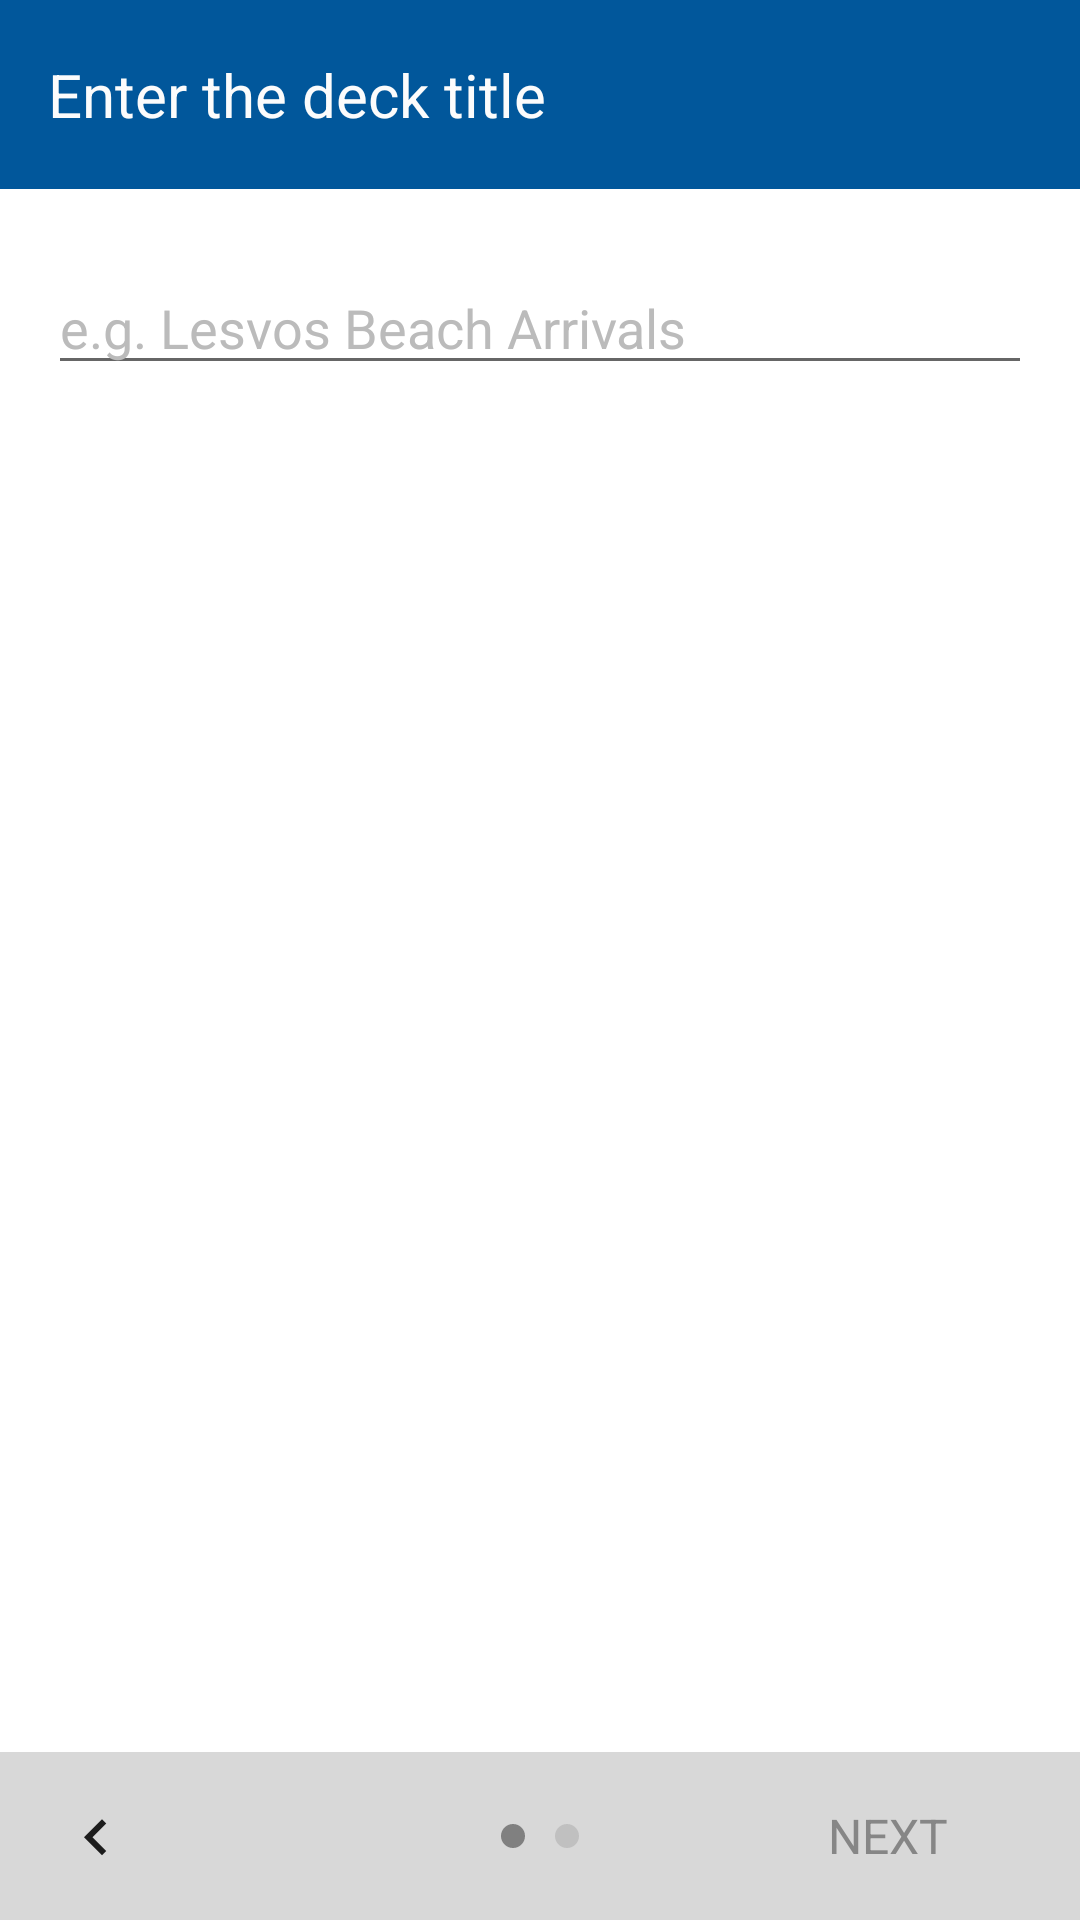

Icons on this 1080 × 1920 Android screen, each with the point to tap as [x,y]:
back arrow: [95,1837]
